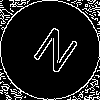N: (25, 25, 81, 84)
